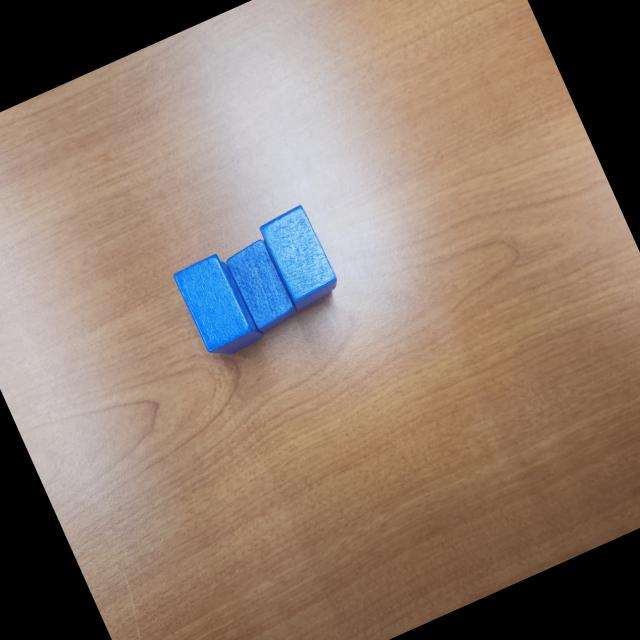blue: (256, 202, 346, 314), (172, 252, 256, 358), (221, 235, 302, 336), (188, 255, 266, 358)
